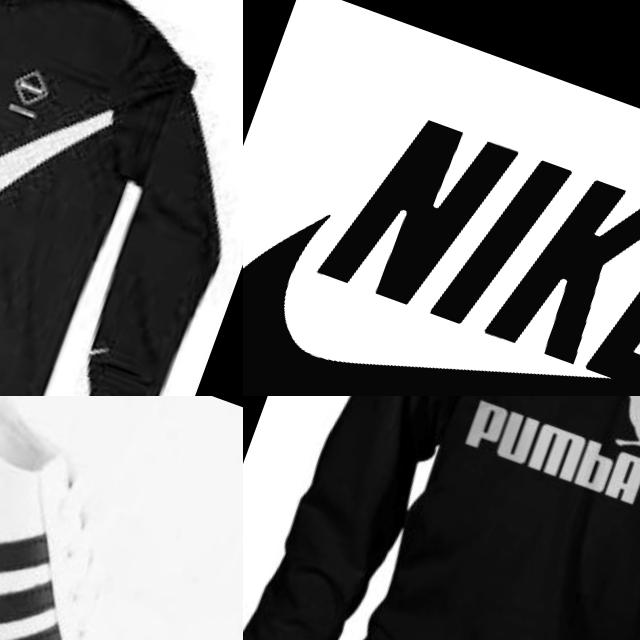ADIDAS_fake: (0, 483, 139, 640)
NIKE_fake: (0, 0, 131, 381)
NIKE_original: (243, 26, 640, 396)
PUMA_fake: (443, 396, 640, 548)
